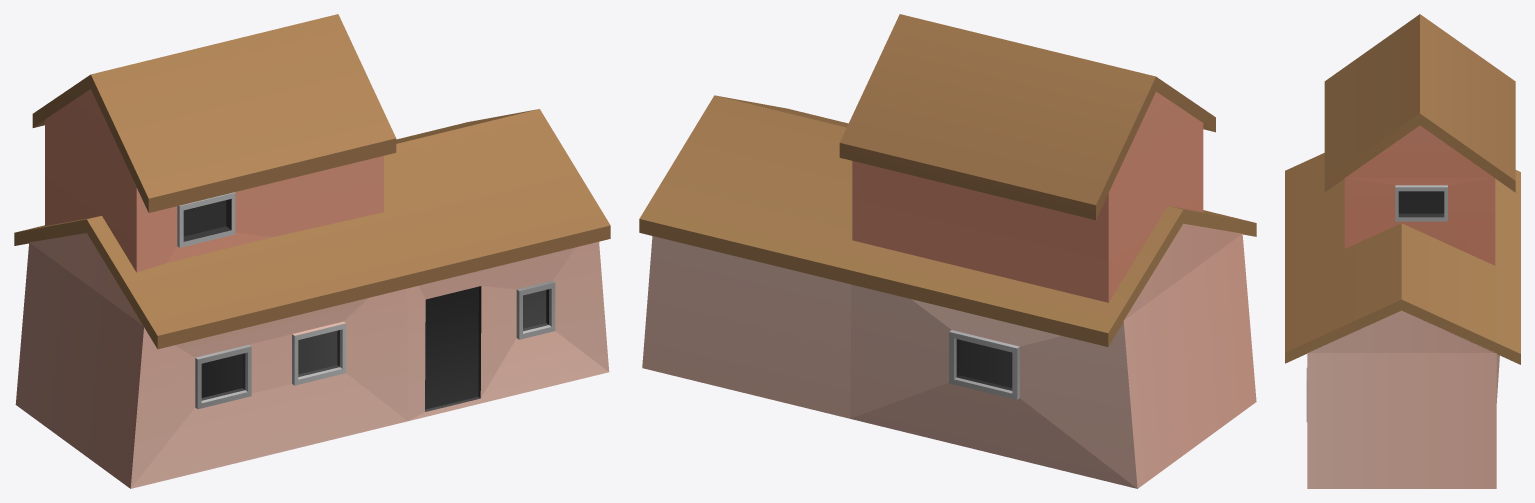
The model's file is Rumah 3.fbx.
3 renders of one model, left to right at view 1: azimuth 30°, elevation 25°; view 2: azimuth 150°, elevation 25°; view 3: azimuth 270°, elevation 25°, orthographic. The views are drawn at different scales.
Visible parts, largest first — view 1: Cube, Cube.003, Cube.004, Cube.002; view 2: Cube, Cube.003, Cube.004, Cube.002; view 3: Cube, Cube.003, Cube.004, Cube.002.
Boxes of the visible parts, x1,y1,x2,y2 form: Cube: [15, 233, 609, 488]; Cube.003: [14, 109, 610, 349]; Cube.004: [32, 14, 396, 212]; Cube.002: [45, 89, 383, 272]; Cube: [642, 223, 1256, 488]; Cube.003: [639, 95, 1256, 346]; Cube.004: [839, 14, 1215, 219]; Cube.002: [852, 91, 1203, 302]; Cube: [1306, 310, 1499, 488]; Cube.003: [1285, 153, 1520, 364]; Cube.004: [1324, 14, 1515, 192]; Cube.002: [1344, 125, 1495, 265].
Size of the model in its own units: 1672 by 1194 by 867.
